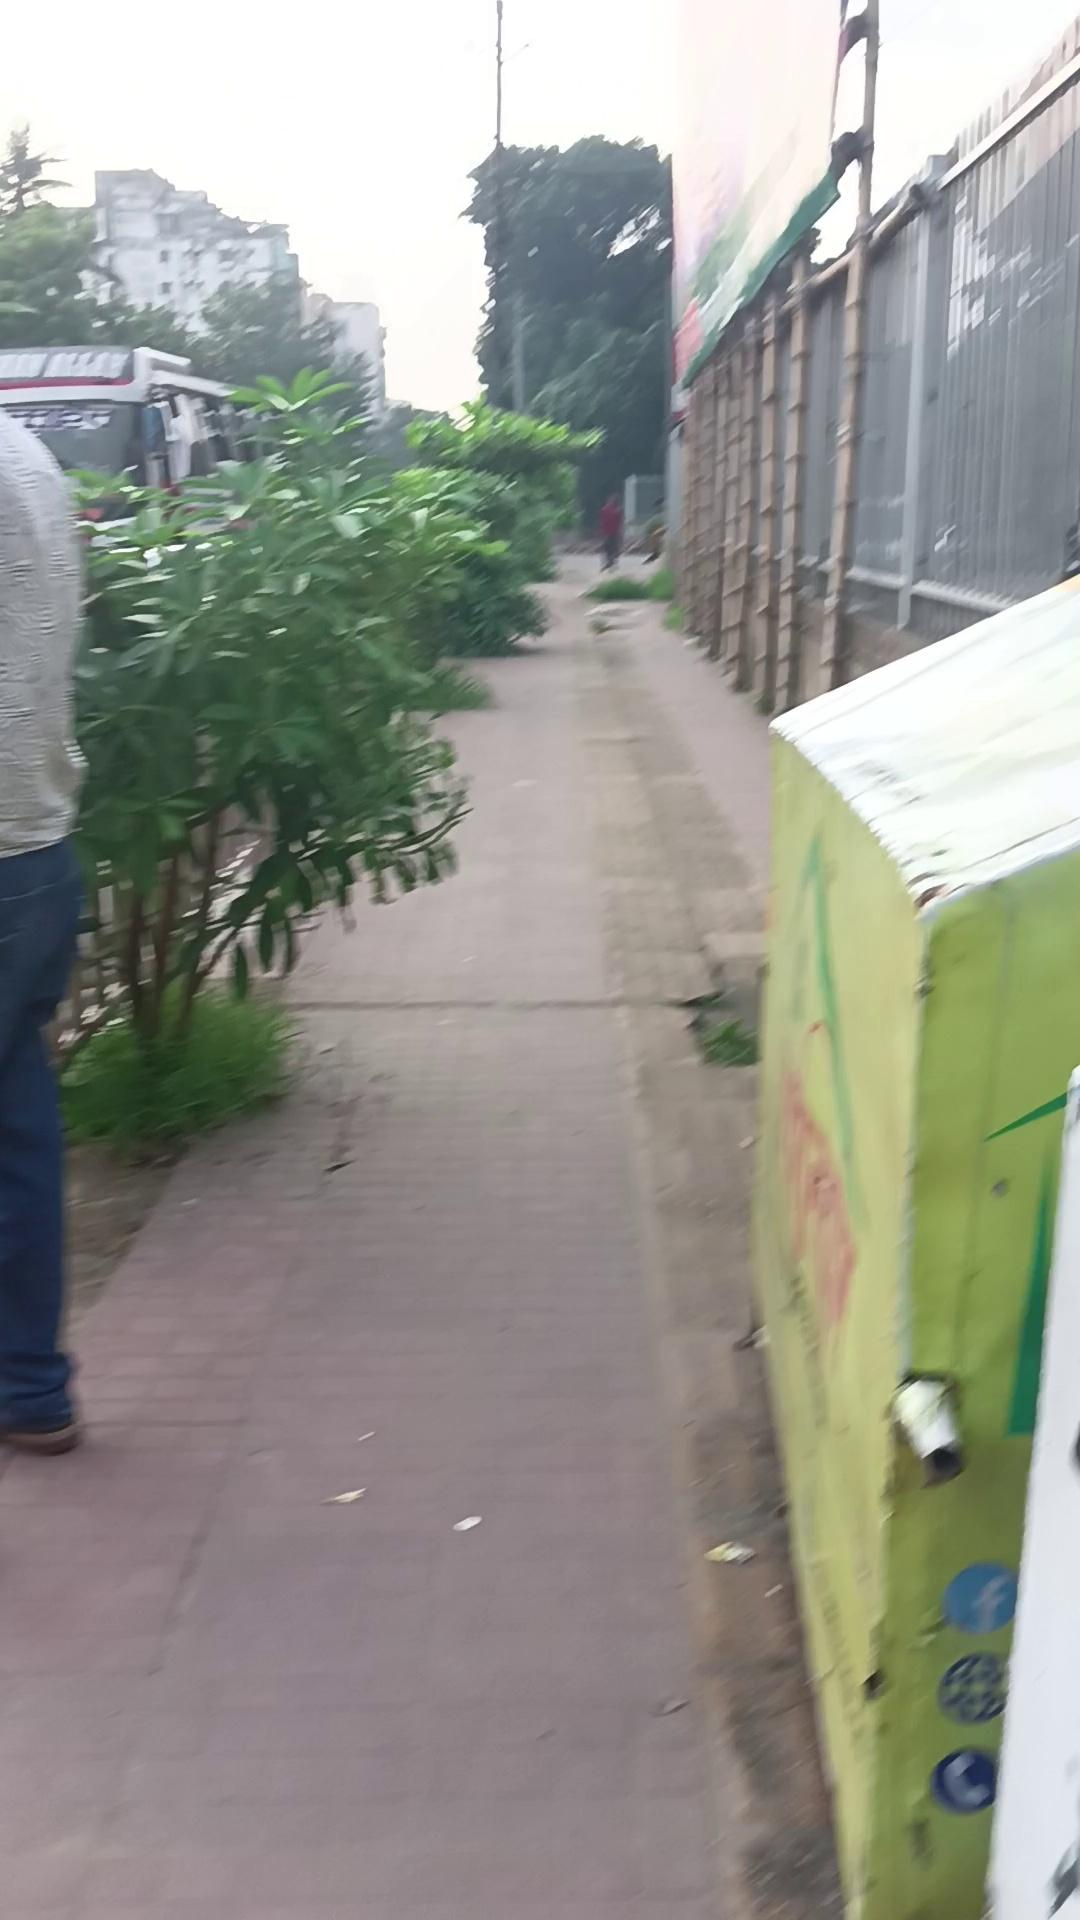Cat: (746, 572, 1077, 1915)
Muddy road: (0, 406, 91, 1455), (596, 493, 622, 572), (641, 497, 665, 563)
Potted-plant: (3, 539, 832, 1916)
Traffic-sign: (0, 342, 282, 547)
